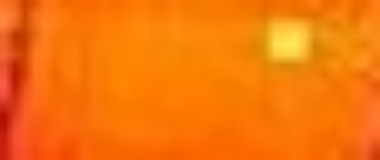Hotspot: (265, 13, 318, 63)
